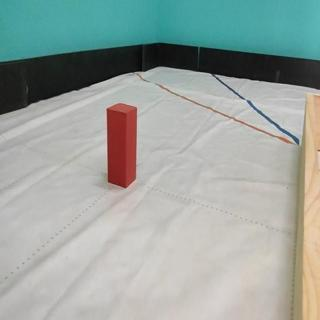redbox: (105, 102, 138, 189)
